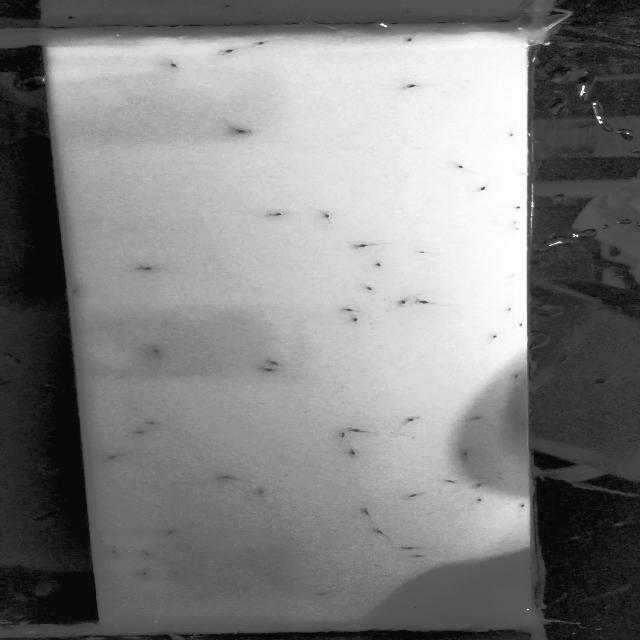shrimp: (386, 78, 430, 94), (408, 240, 436, 262), (223, 122, 260, 138), (336, 313, 367, 332), (444, 158, 478, 174), (309, 207, 340, 224), (366, 524, 395, 542), (467, 180, 498, 196), (396, 488, 431, 502), (252, 367, 294, 378), (65, 283, 92, 300), (358, 503, 383, 521), (355, 279, 382, 295), (392, 294, 416, 312), (450, 447, 480, 461), (160, 58, 188, 72), (213, 46, 244, 58), (140, 549, 171, 561), (412, 294, 435, 310), (408, 551, 436, 564), (510, 198, 530, 216), (352, 240, 382, 252), (402, 600, 426, 615), (492, 302, 519, 315), (129, 262, 164, 272), (336, 303, 361, 317), (102, 449, 125, 464), (331, 432, 362, 443), (246, 39, 274, 51), (464, 410, 488, 424), (438, 476, 462, 490), (506, 367, 526, 383), (124, 427, 153, 438), (100, 546, 126, 558), (496, 130, 524, 141), (400, 540, 422, 554), (164, 567, 189, 579), (514, 320, 538, 332), (136, 566, 156, 580), (402, 412, 420, 427), (146, 346, 165, 360), (398, 34, 422, 45), (141, 417, 161, 430), (215, 472, 238, 483), (470, 479, 491, 491), (270, 208, 289, 221), (311, 588, 338, 597), (250, 484, 270, 496), (369, 261, 395, 270), (268, 357, 286, 370), (349, 446, 365, 460), (513, 500, 535, 510), (484, 330, 502, 342), (349, 426, 366, 438), (160, 528, 181, 537), (515, 420, 532, 431), (474, 495, 492, 505)
